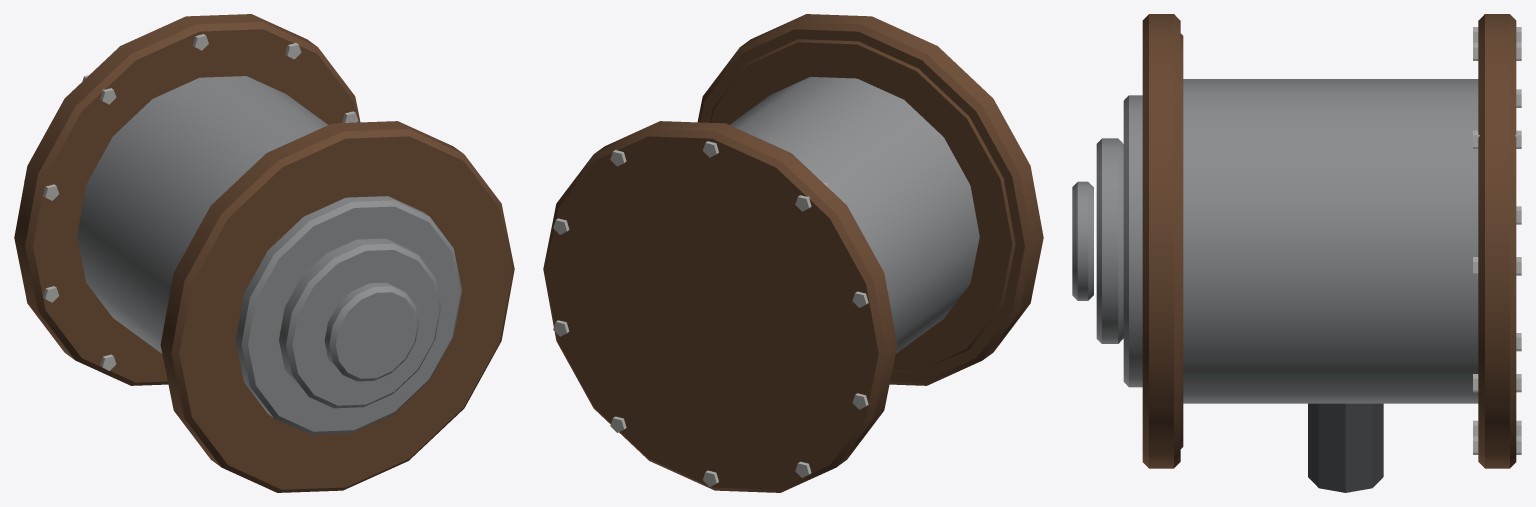
The model's file is pipe-straight-vertical-single.glb.
3 views of the same model, side by side, from view 1: azimuth 30°, elevation 25°; view 2: azimuth 150°, elevation 25°; view 3: azimuth 270°, elevation 25° (orthographic). The views are drawn at different scales.
Parts seen in each view (by area): view 1: body; view 2: body; view 3: body.
Boxes of the visible parts, x1=… form: body: x1=14, y1=14, x2=514, y2=492; body: x1=543, y1=14, x2=1043, y2=492; body: x1=1072, y1=14, x2=1521, y2=492.
Bounding box in the file's own units: 0.84 × 0.9 × 0.83.
